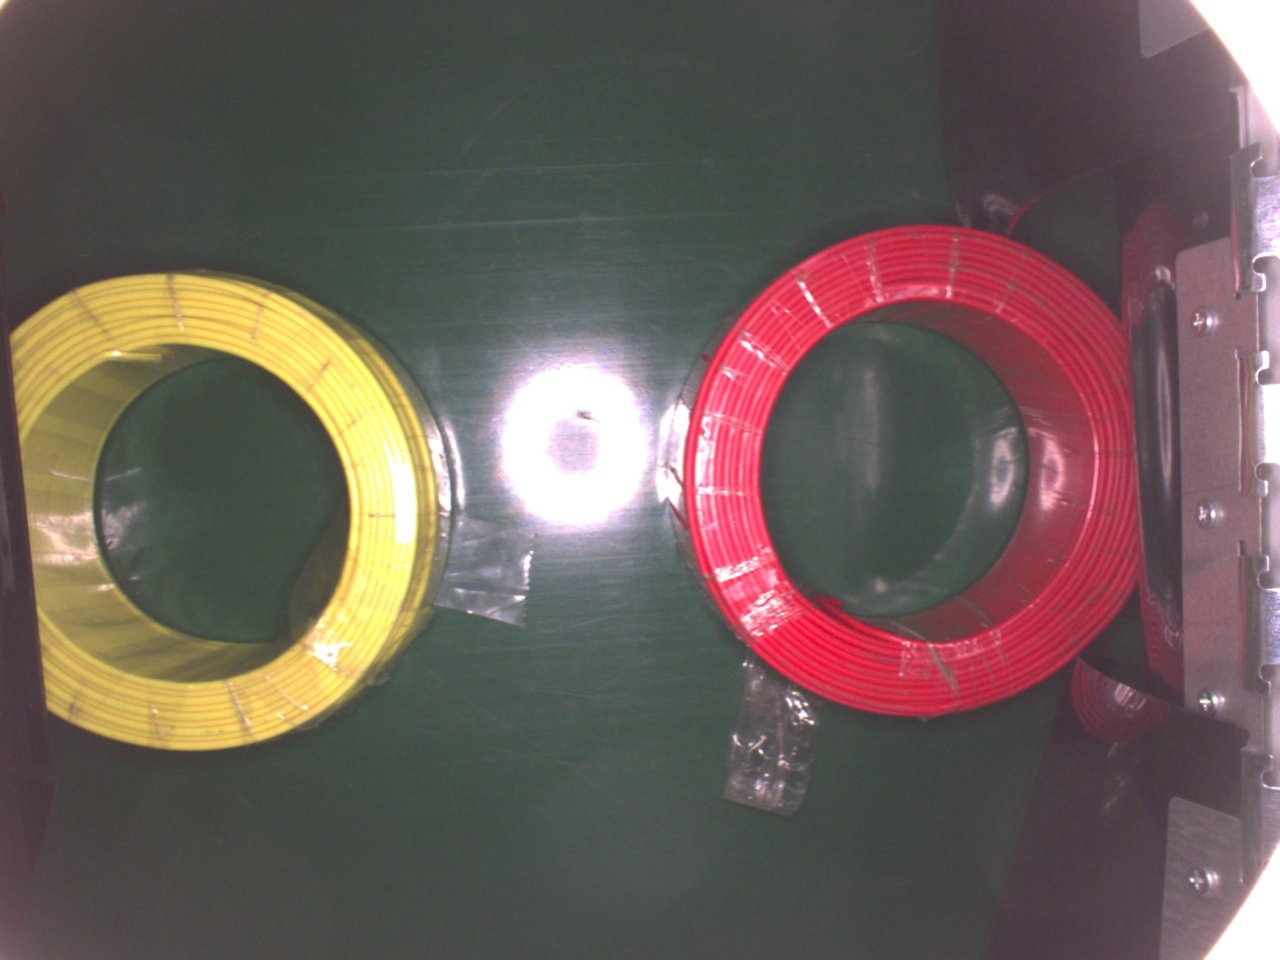red: (667, 220, 1140, 718)
yellow: (9, 266, 451, 754)
